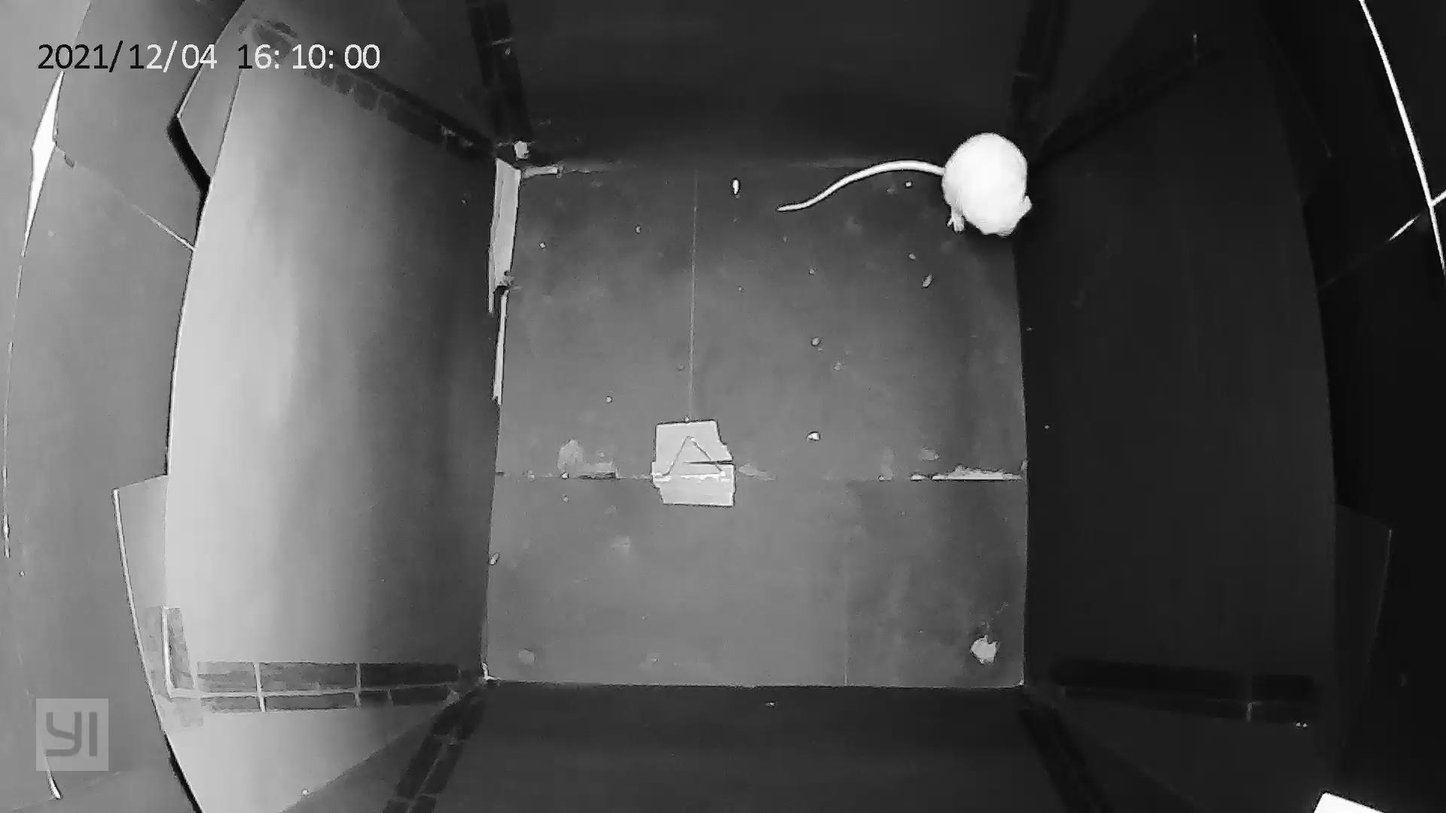rat: (779, 79, 1059, 261)
